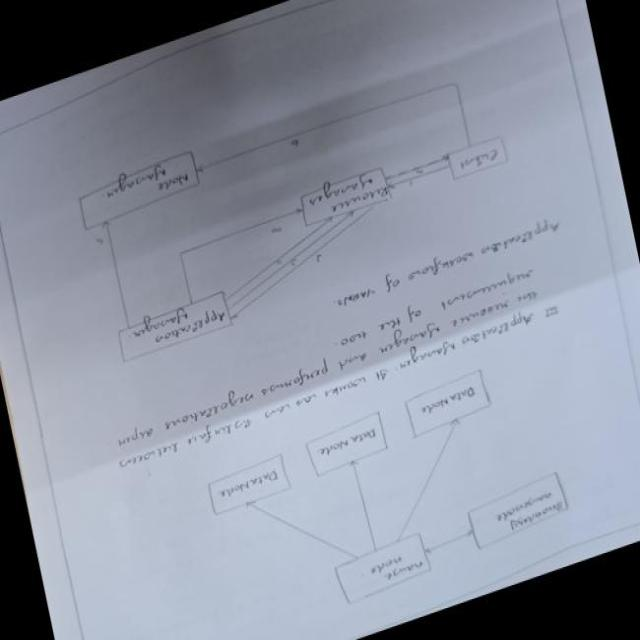Figure Detection - v3 Dataset Version2: (35, 20, 540, 388), (184, 338, 605, 640)
